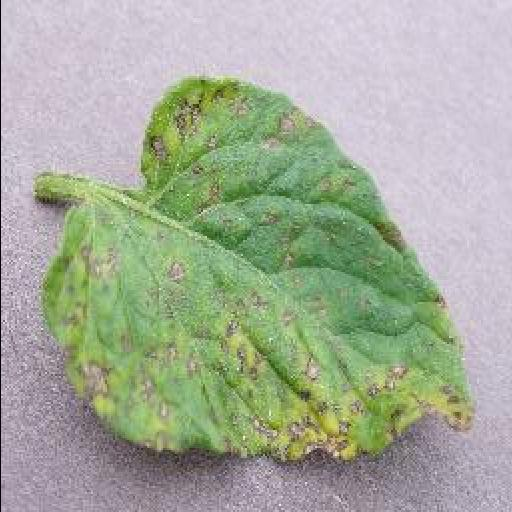disease_tomato: (42, 80, 478, 458)
